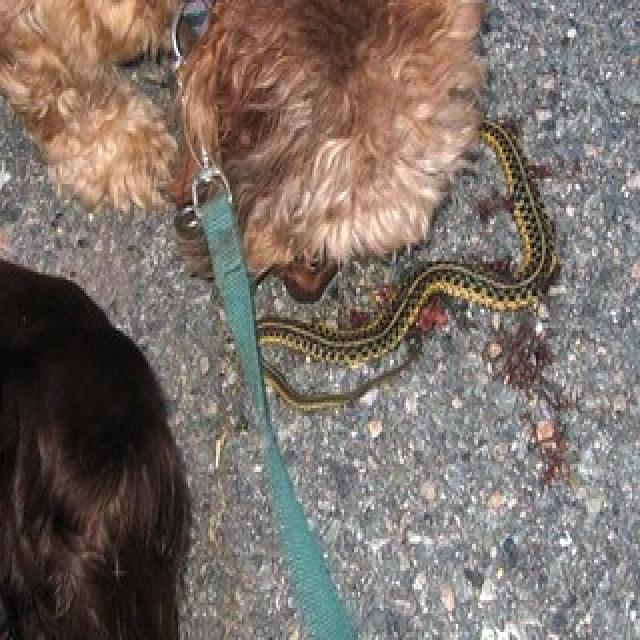Snake: (228, 219, 640, 437)
